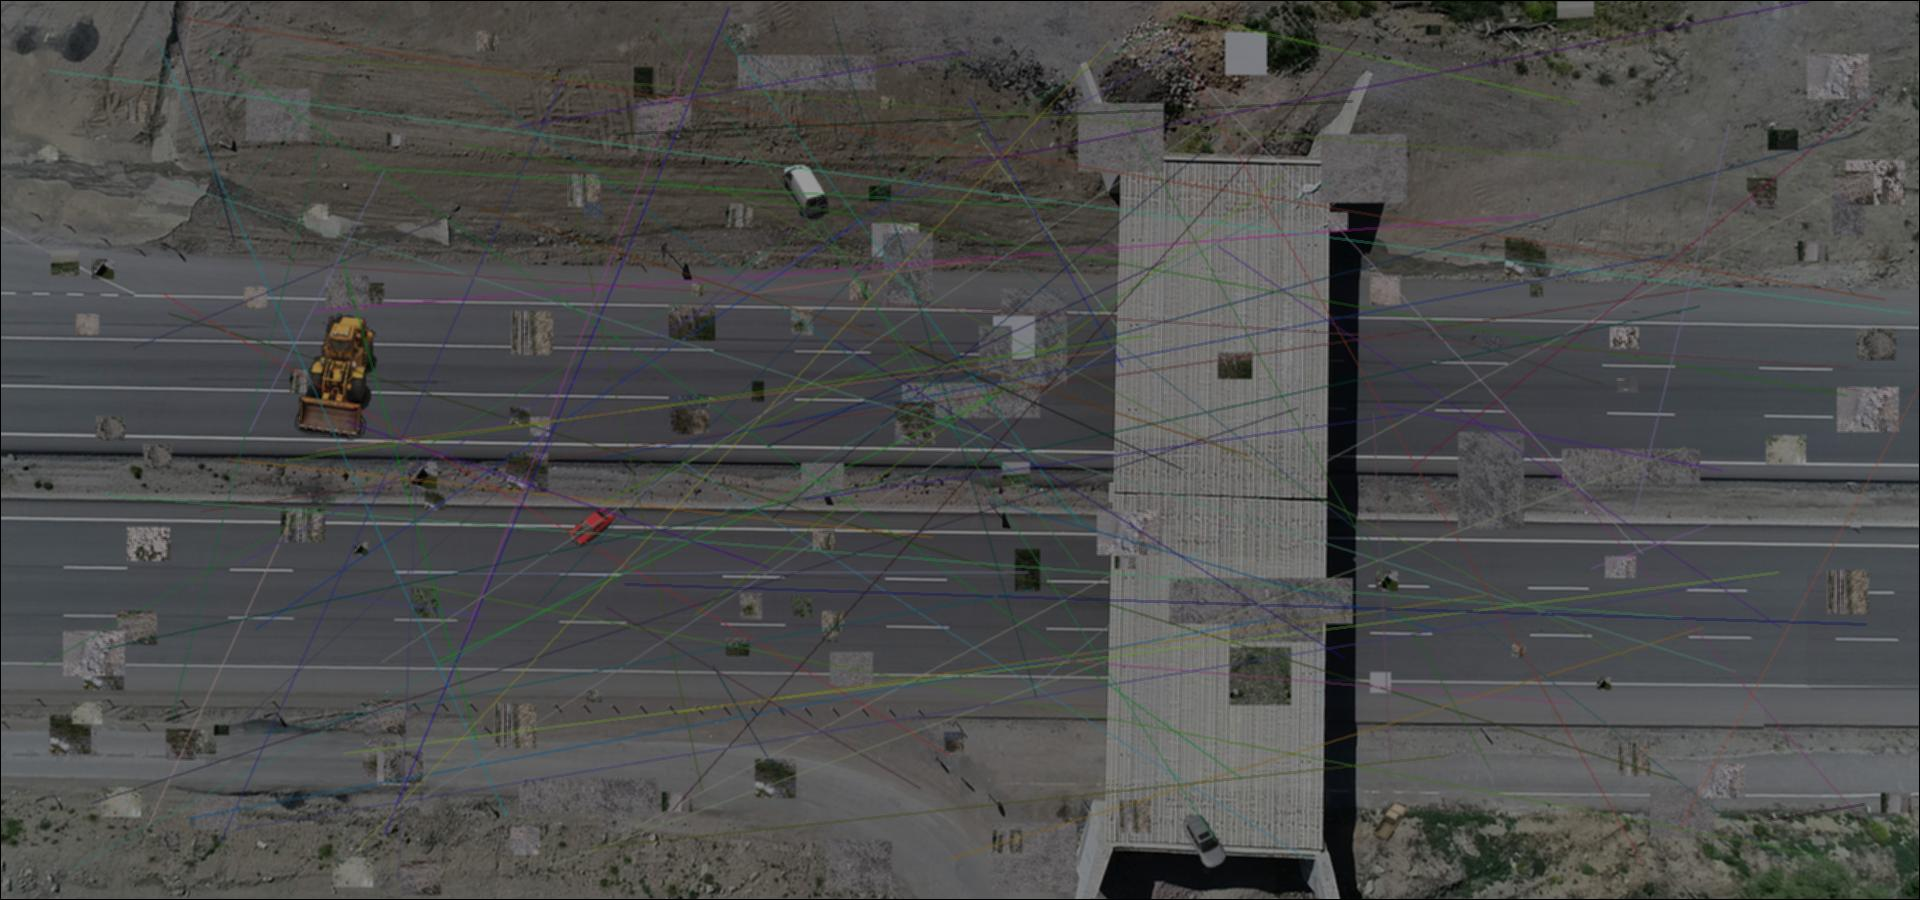arac: (283, 305, 381, 442), (1180, 811, 1229, 868), (781, 162, 829, 219), (568, 507, 616, 546), (1370, 802, 1411, 842)
